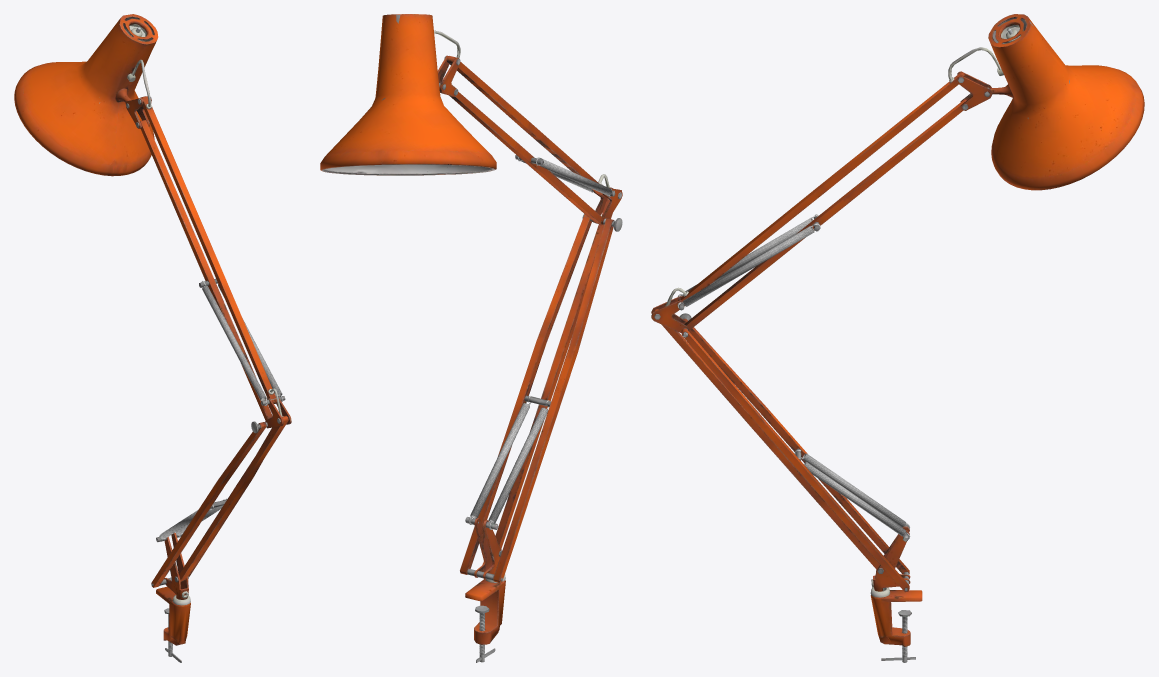
Rendered from desk_lamp_arm_01.glb.
The picture shows the model from 3 angles, left to right: view 1: azimuth 30°, elevation 25°; view 2: azimuth 150°, elevation 25°; view 3: azimuth 270°, elevation 25°; orthographic projection. The views are drawn at different scales.
Parts seen in each view (by area): view 1: desk_lamp_arm_01; view 2: desk_lamp_arm_01; view 3: desk_lamp_arm_01.
Part boxes in pixels (box(x1,y1,x2,y2)): desk_lamp_arm_01: box(14, 14, 291, 662); desk_lamp_arm_01: box(320, 14, 622, 662); desk_lamp_arm_01: box(651, 14, 1144, 662).
Bounding box in the file's own units: 0.2017 × 0.8926 × 0.6139.
2 materials, 2 textured.
